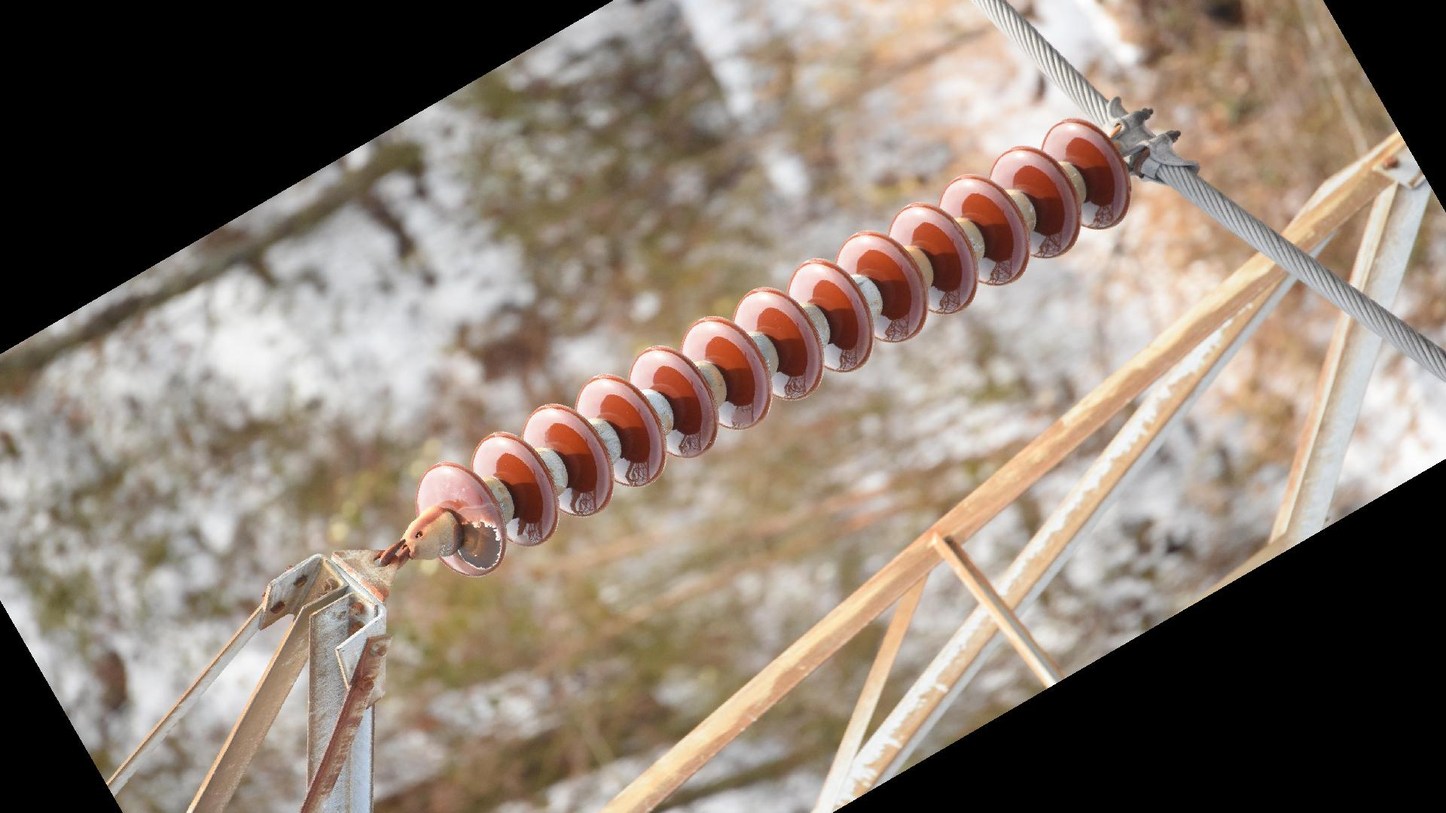insulator: (410, 112, 1137, 580)
insulator_flashover: (453, 519, 505, 572)
